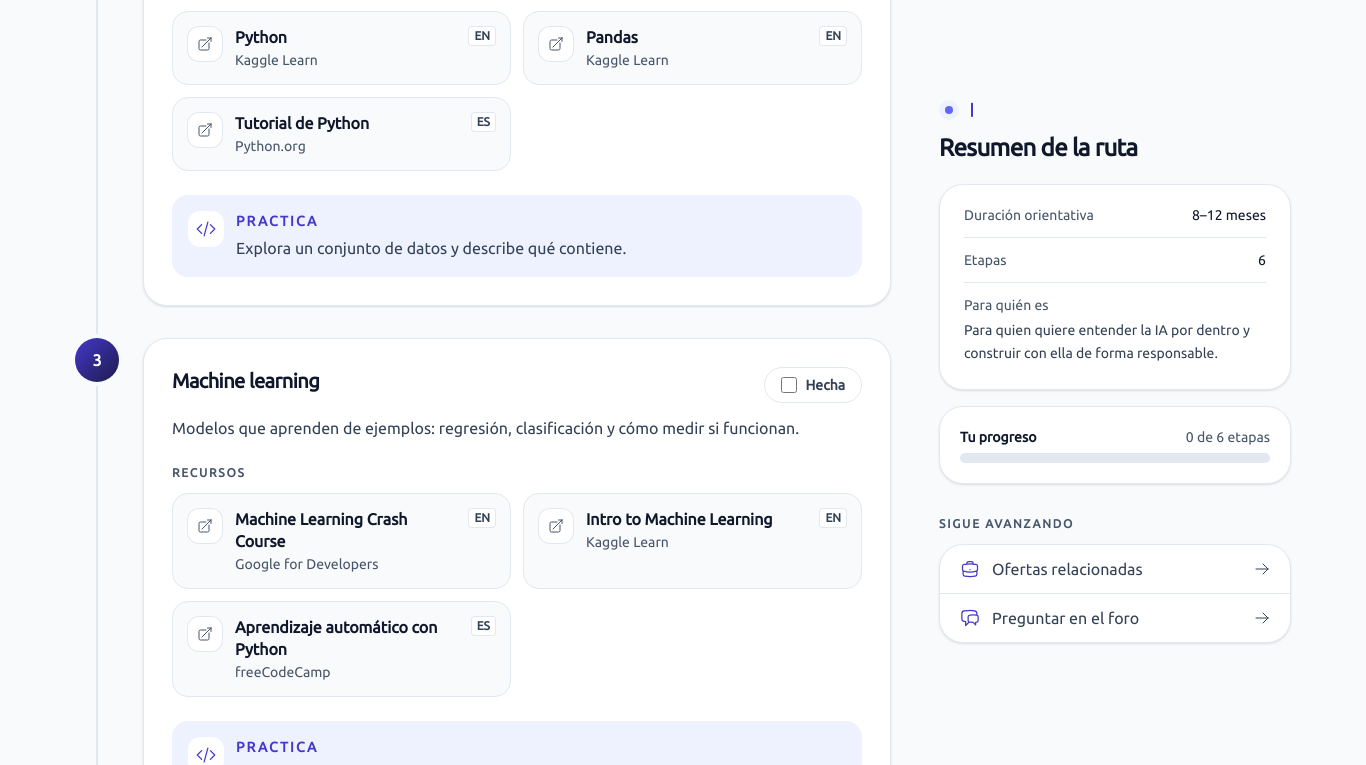
LearningPathPage › con sesión, marcar una etapa la guarda y actualiza la barra de progreso
The width and height of the screenshot is (1366, 765).
(page scrolled)
Click the checkbox named "Hecha (etapa Machine learning)": (790, 384) [782,376,798,392]
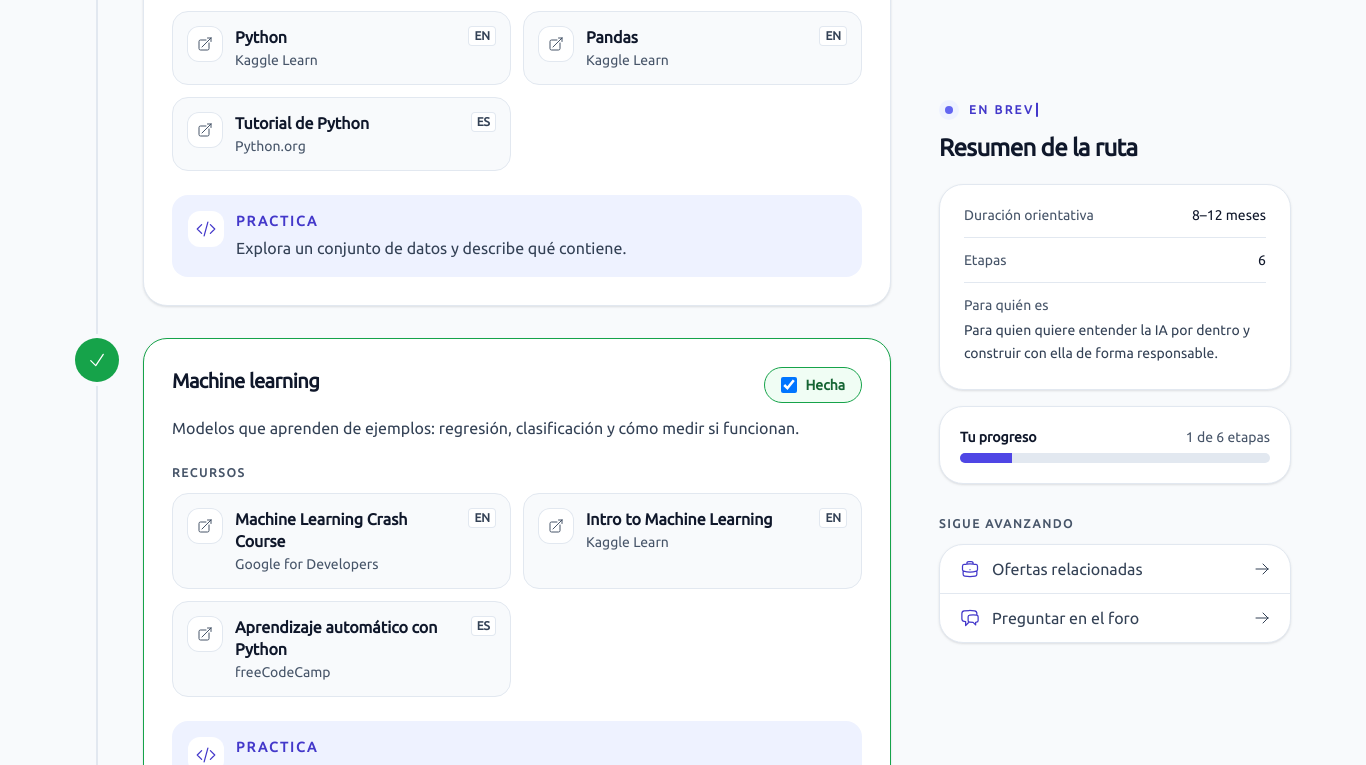
Expected: the checkbox named "Hecha (etapa Machine learning)" is checked, [782,376,798,392]
Expected: the text "1 de 6 etapas" is shown, [1186,426,1270,446]
